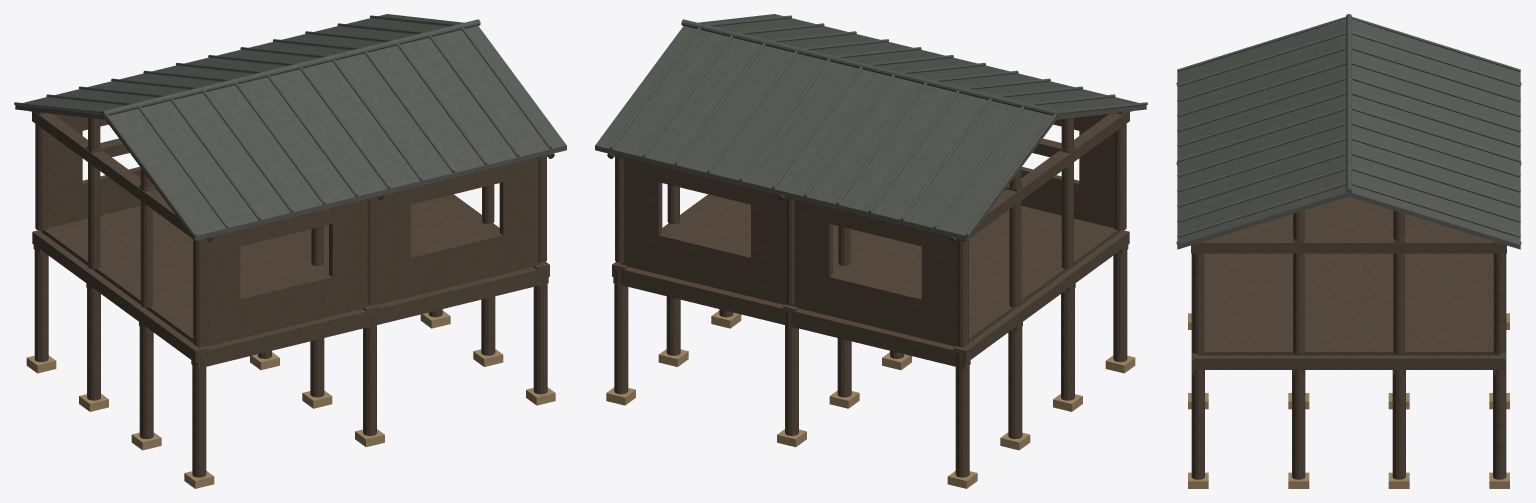
Rendered from gallery-B-LOD1.glb.
3 renders of one model, left to right at view 1: azimuth 30°, elevation 25°; view 2: azimuth 150°, elevation 25°; view 3: azimuth 270°, elevation 25°, orthographic. The views are drawn at different scales.
Parts seen in each view (by area): view 1: gallery-B-static_timber, gallery-B-static_tile, gallery-B-static_earth; view 2: gallery-B-static_timber, gallery-B-static_tile, gallery-B-static_earth; view 3: gallery-B-static_tile, gallery-B-static_timber, gallery-B-static_earth.
Boxes of the visible parts, box(x1,y1,x2,y2) form: gallery-B-static_timber: box(29, 111, 554, 477); gallery-B-static_tile: box(14, 14, 566, 240); gallery-B-static_earth: box(26, 310, 555, 488); gallery-B-static_timber: box(607, 111, 1132, 477); gallery-B-static_tile: box(595, 14, 1147, 240); gallery-B-static_earth: box(606, 310, 1135, 488); gallery-B-static_tile: box(1177, 14, 1520, 249); gallery-B-static_timber: box(1176, 82, 1521, 479); gallery-B-static_earth: box(1188, 313, 1509, 488).
Bounding box in the file's own units: 9.9 × 8 × 8.25.
Materials: 3 (3 with a texture image).
